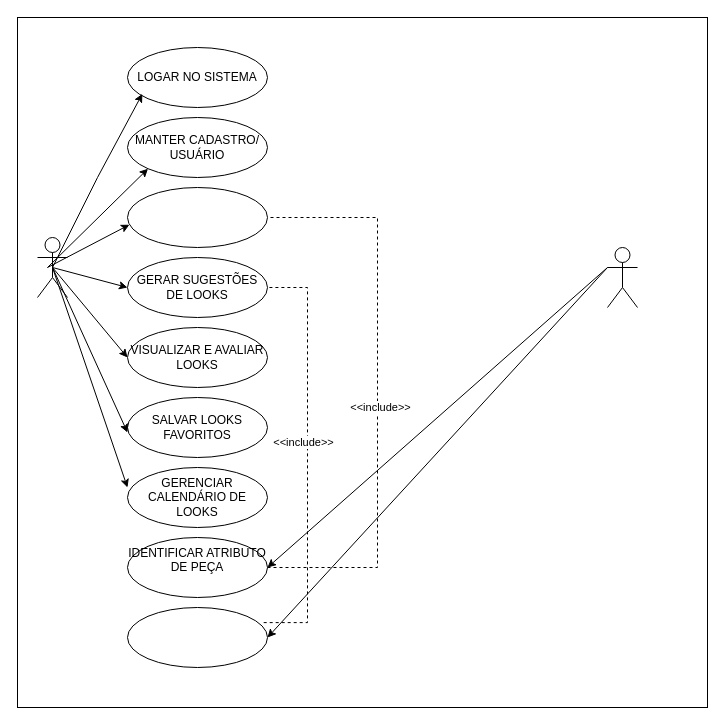
Some shapes in this 725 by 725 pixel diagram are drawn without their labels. The box of each missing label's shape, as (x1, y1, x2, y2) in pixels:
CADASTRAR PEÇAS DE ROUPA: (126, 186, 268, 248)
CONSULTAR CLIMA E ESTILO: (126, 606, 268, 668)
INTELIGÊNCIA ARTIFICIAL (IA): (606, 246, 638, 308)
USUÁRIO: (36, 236, 68, 298)
